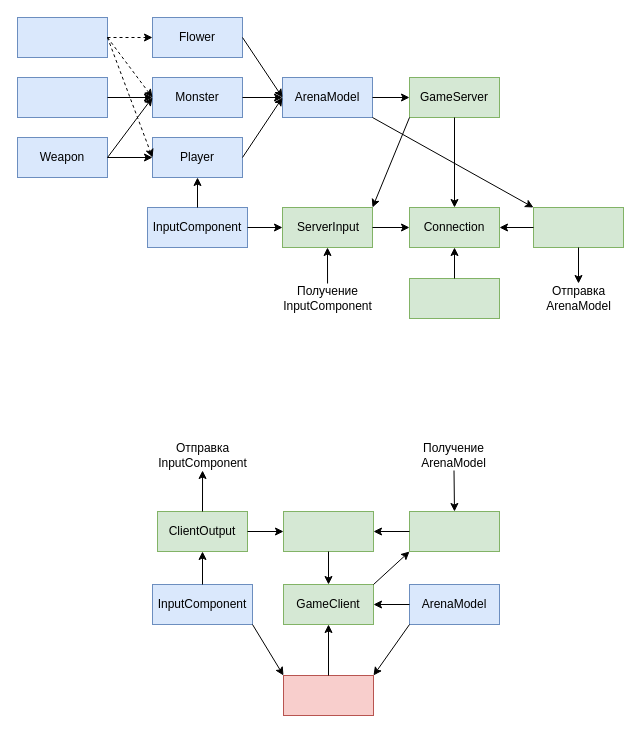
The diagram is 641 pixels wide and 733 high, and some of its shapes have lost their labels. The shapes that lost their labels are listed below. From the top down, each one's box as (x1, y1, x2, y2) in pixels, then its label:
(16, 16, 108, 58): GameObject
(16, 76, 108, 118): Node
(532, 206, 624, 248): ServerOutput
(408, 278, 500, 318): Server
(282, 510, 374, 552): Client
(408, 510, 500, 552): ClientInput
(282, 674, 374, 716): Arena
